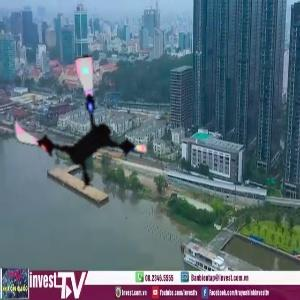drone: (11, 52, 157, 198)
